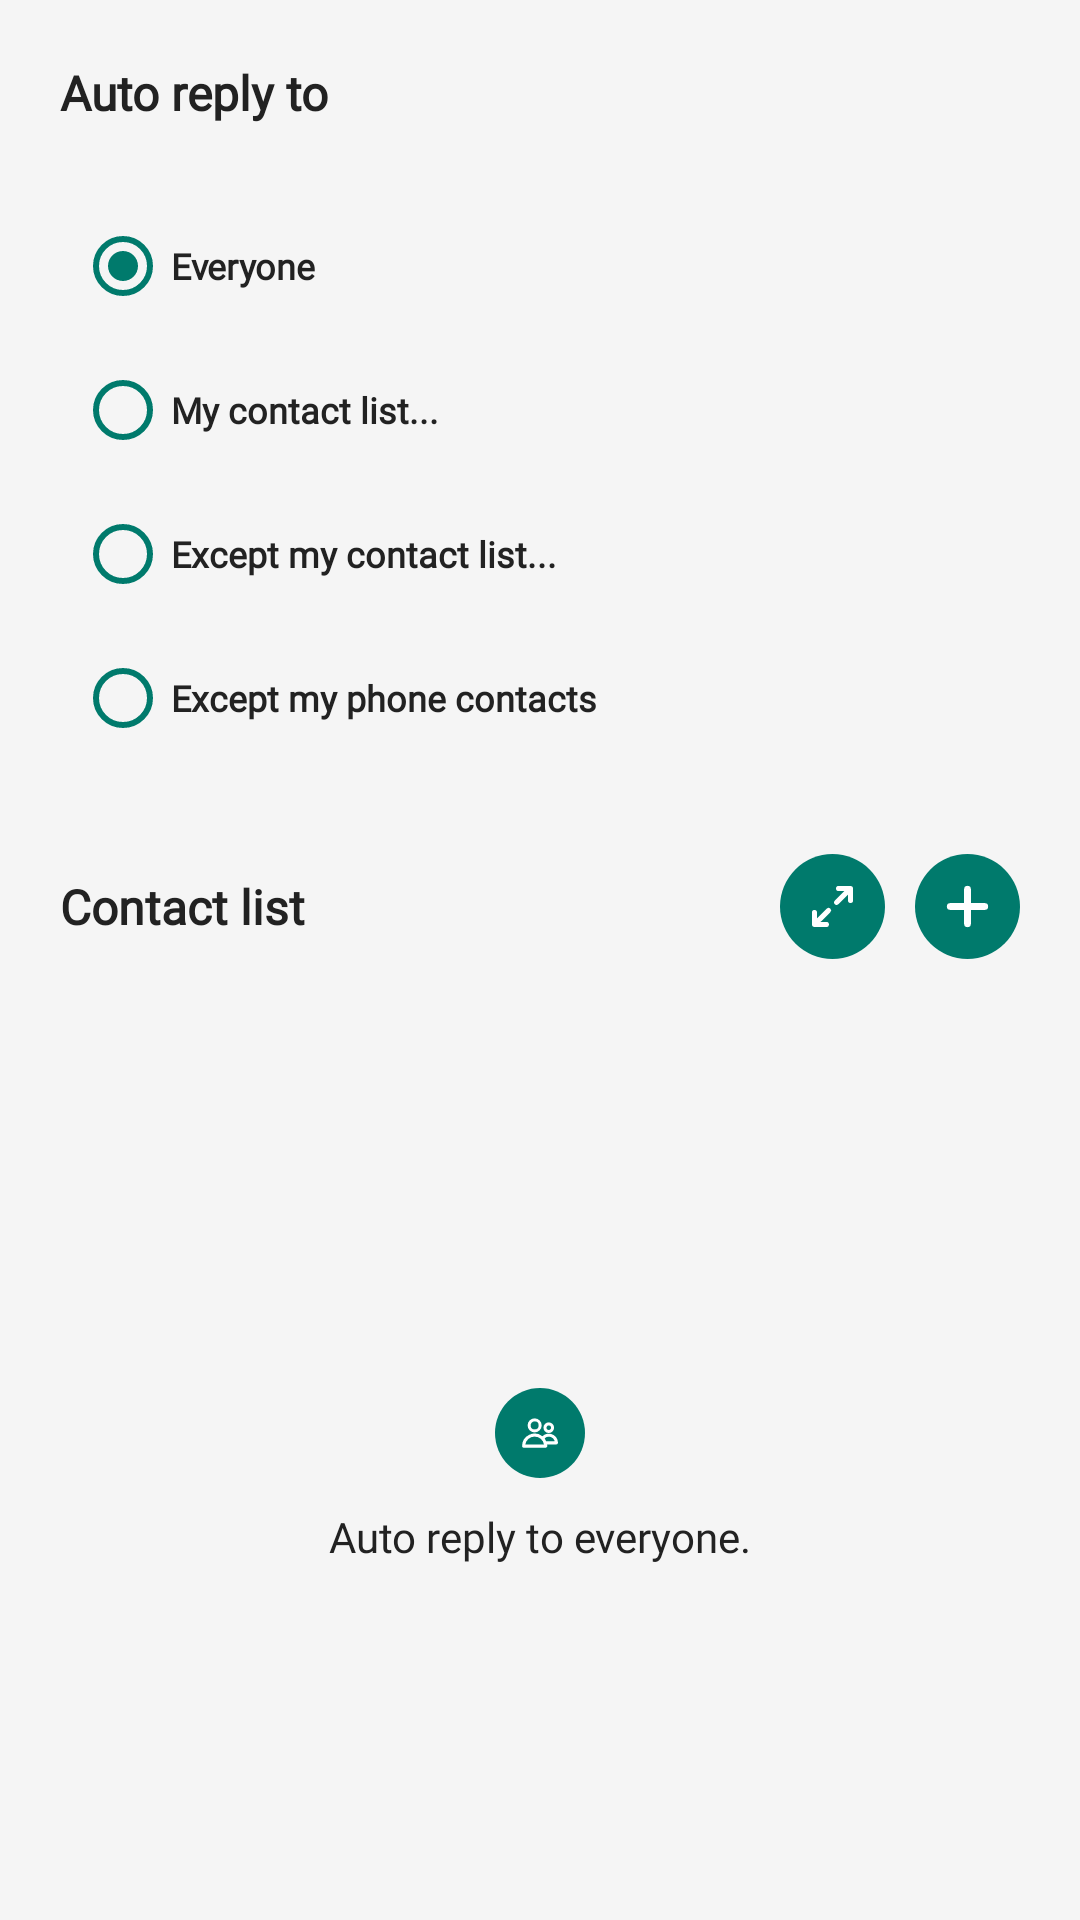

Point at icon controls on the screen. Image size 1080px x 1920px, points as point (x, y).
add circle: point (967, 906)
fullscreen: point (832, 906)
